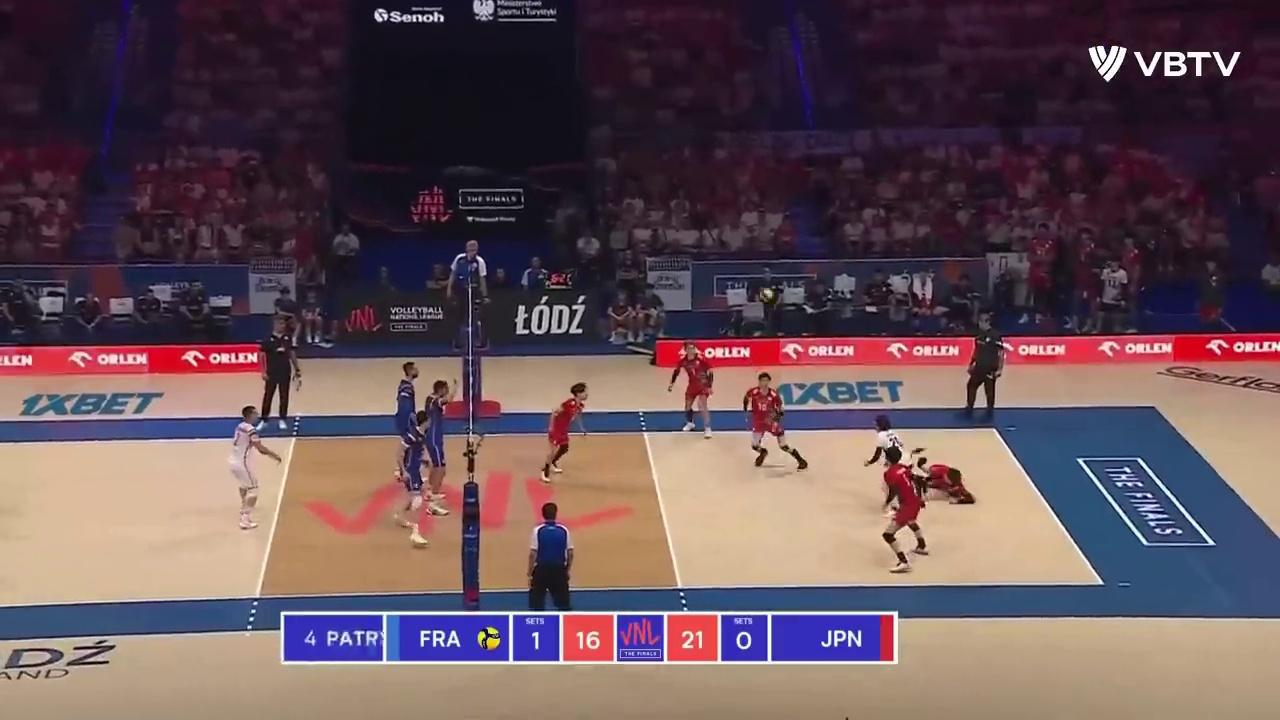ball: (758, 287, 773, 302)
